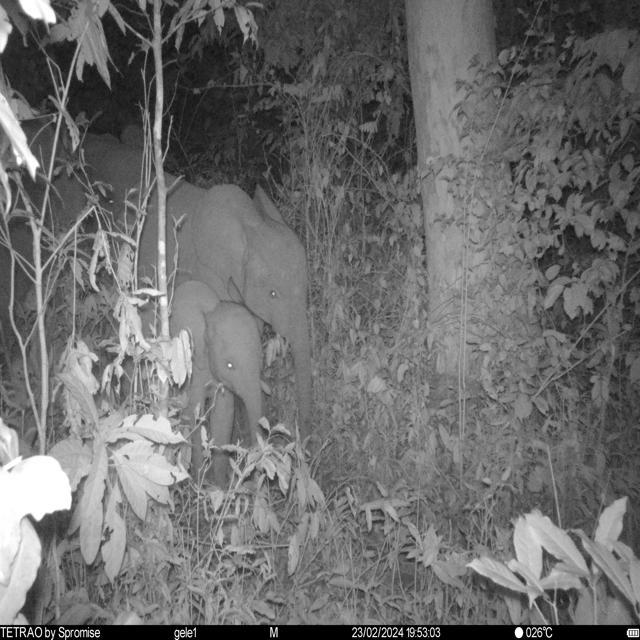calf: (134, 174, 316, 434), (169, 278, 266, 492)
ear: (195, 184, 263, 287), (169, 281, 219, 366), (255, 187, 288, 226), (227, 278, 244, 304)
elephant: (81, 128, 152, 240)
